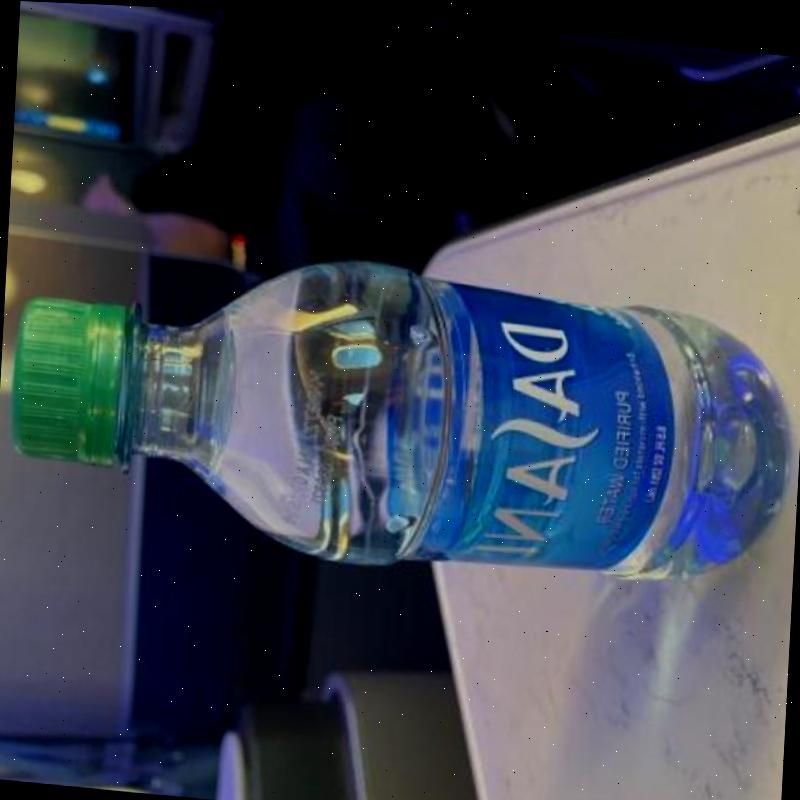botella: (3, 225, 796, 599)
